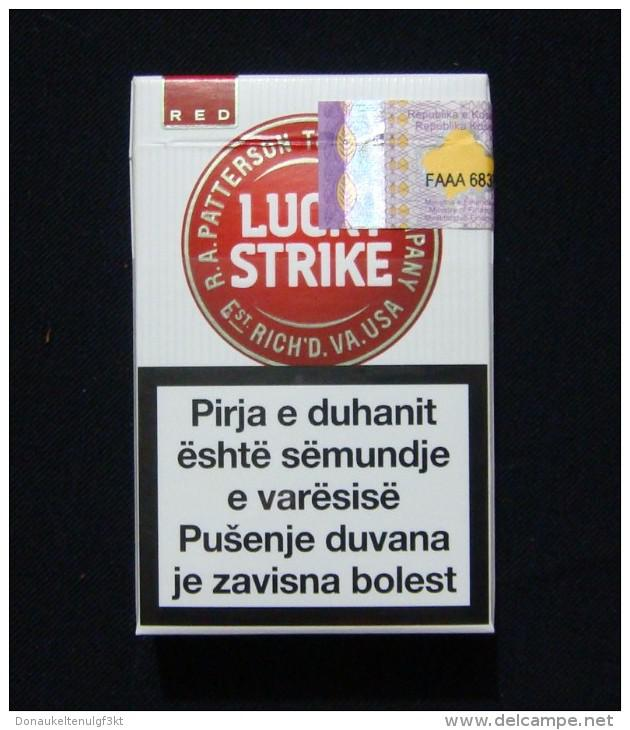lucky_strike_red: (138, 76, 493, 629)
